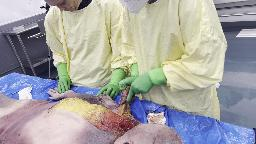scalpel: (122, 91, 136, 105)
